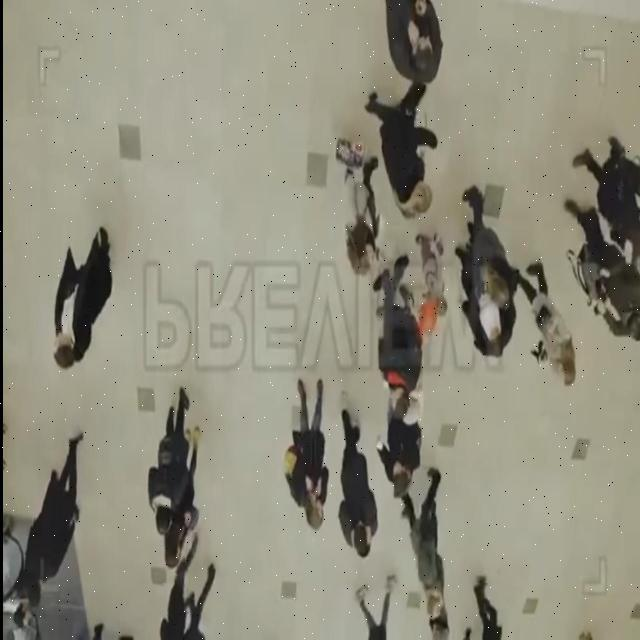humans: (24, 430, 84, 613), (570, 194, 640, 349), (364, 80, 442, 219), (50, 223, 116, 369), (144, 384, 198, 540), (519, 258, 577, 394), (574, 134, 640, 253), (374, 255, 422, 418), (284, 376, 332, 535), (336, 385, 376, 557), (453, 237, 505, 366), (401, 467, 445, 617), (468, 182, 517, 316), (338, 145, 381, 280), (161, 423, 199, 571), (382, 0, 444, 81), (375, 410, 424, 500), (158, 538, 198, 640), (354, 570, 402, 640), (420, 221, 448, 326), (185, 560, 219, 640), (474, 573, 502, 636), (12, 567, 33, 631)
